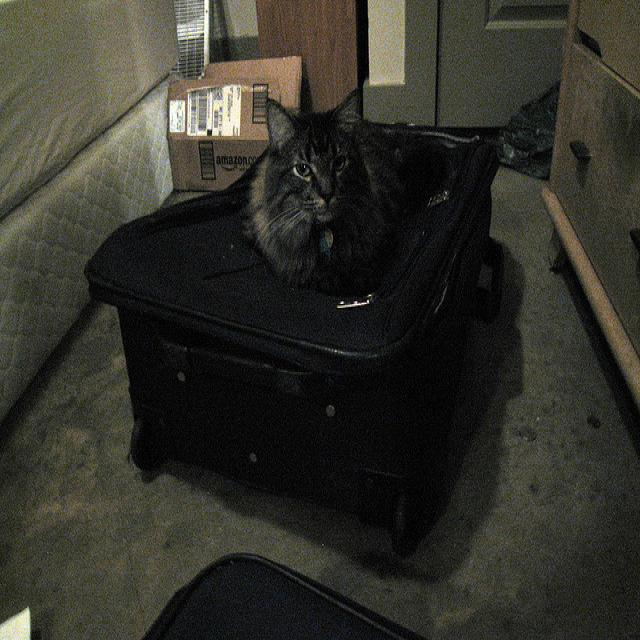Cat: (273, 95, 425, 292)
